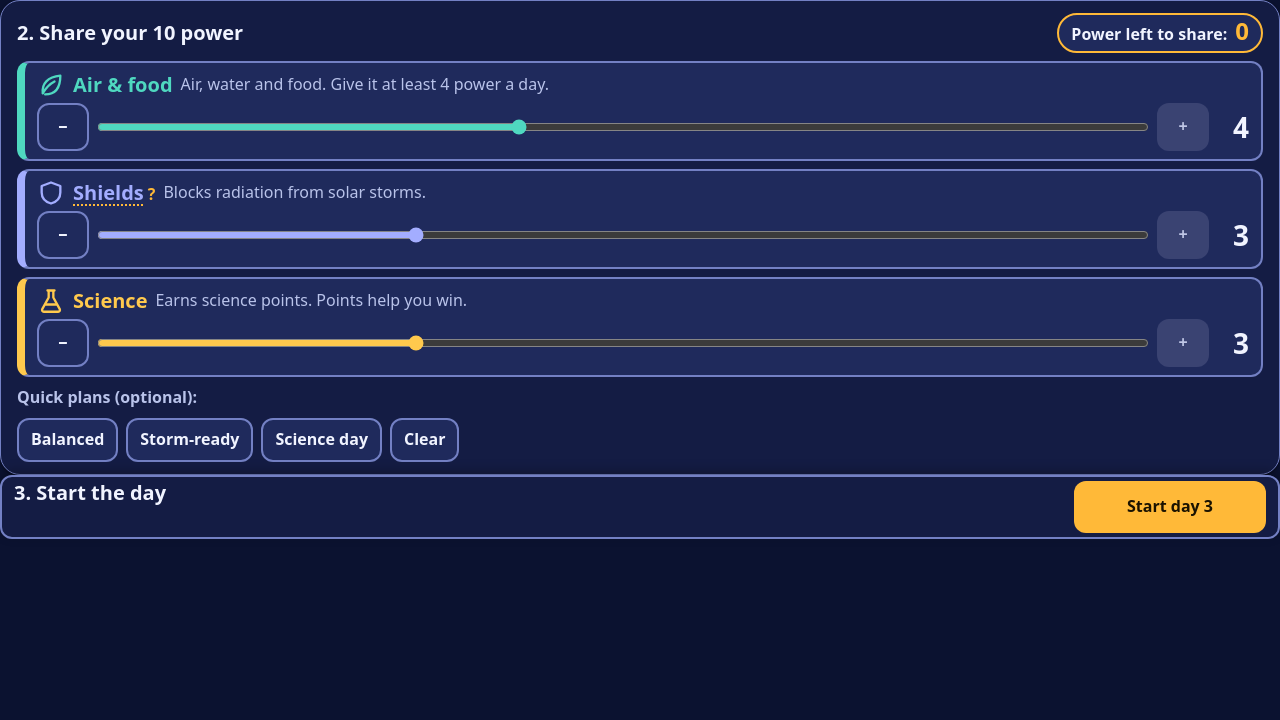
PowerAllocator › slider moves clamp to the pool and return units when dragged down
Set the slider named "Air & food units" to "1" at (209, 127), box [97,105,1149,149]
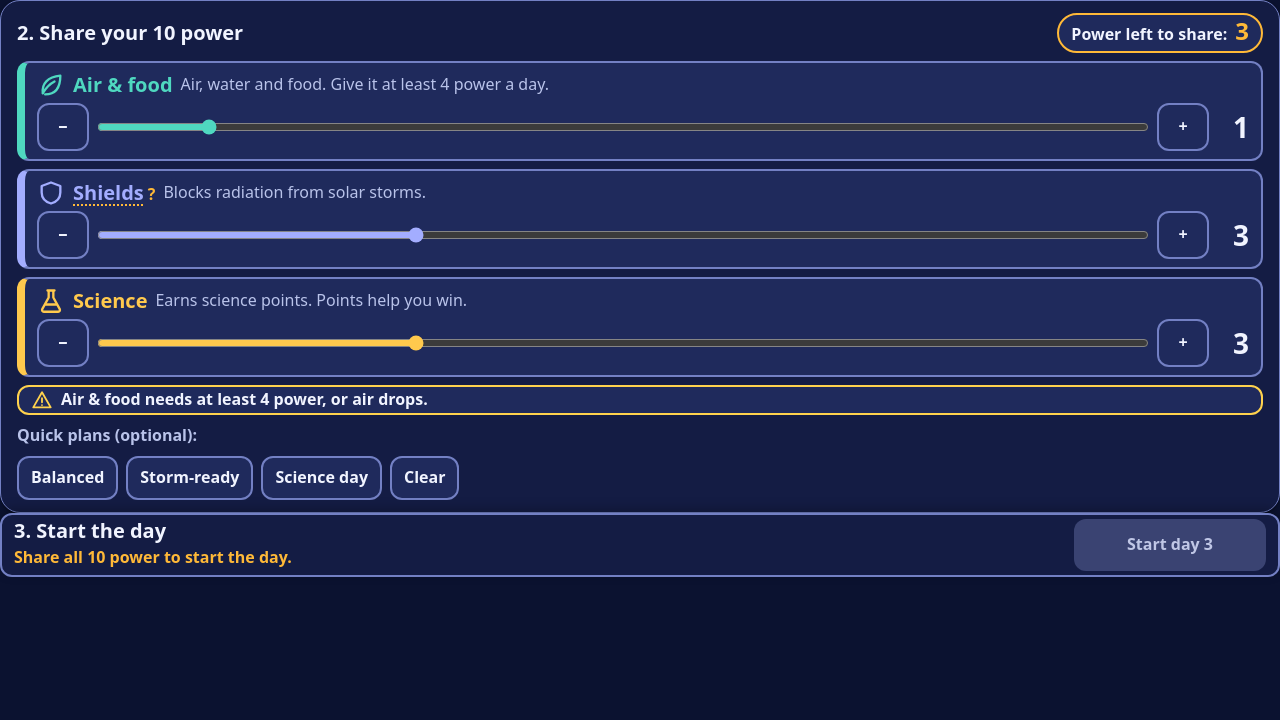
expect the text "Power left to share: 3" is shown: met, box [1057,13,1263,53]
Set the slider named "Science units" to "10" at (1141, 343), box [97,321,1149,365]
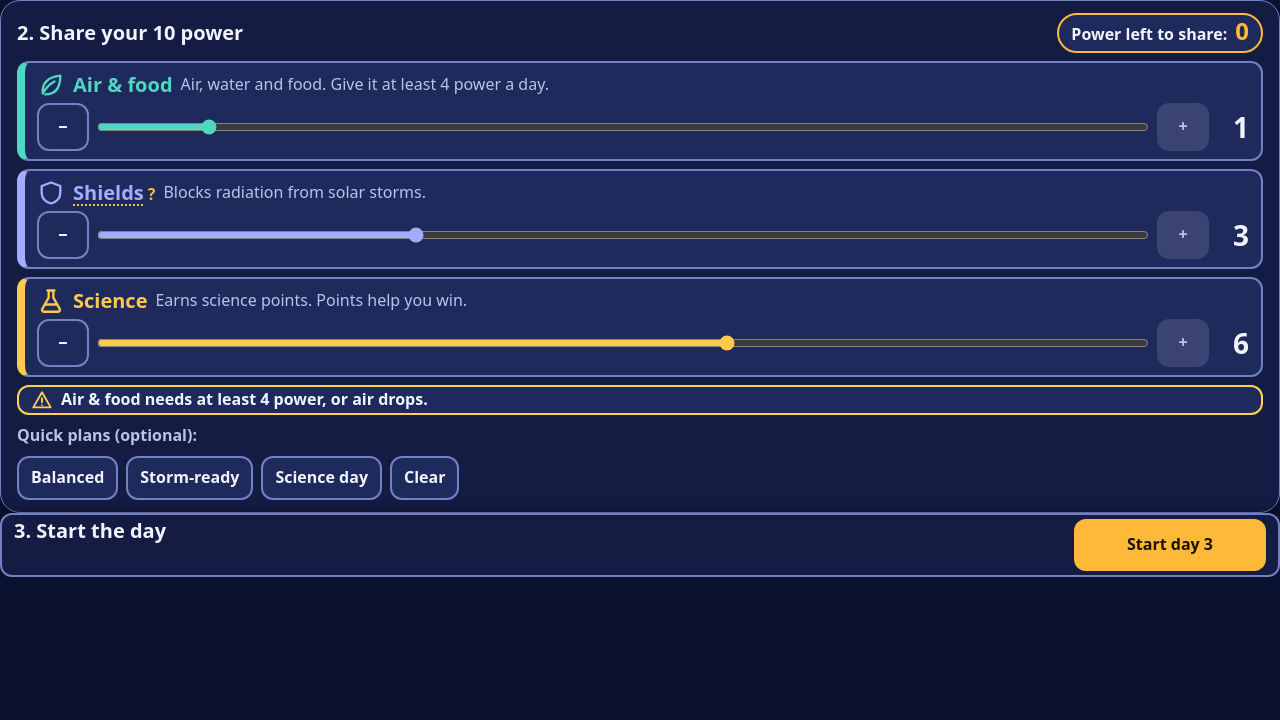
expect the text "Power left to share: 0" is shown: met, box [1057,13,1263,53]
